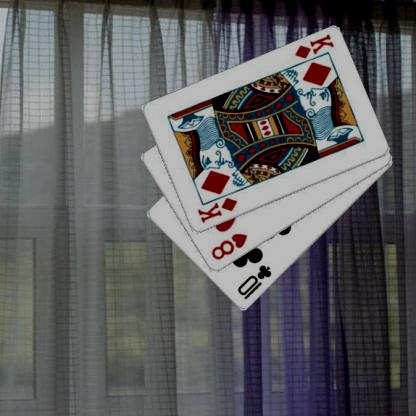10C: (234, 262, 273, 302)
8H: (208, 231, 249, 262)
KD: (194, 195, 239, 225), (292, 31, 334, 60)
